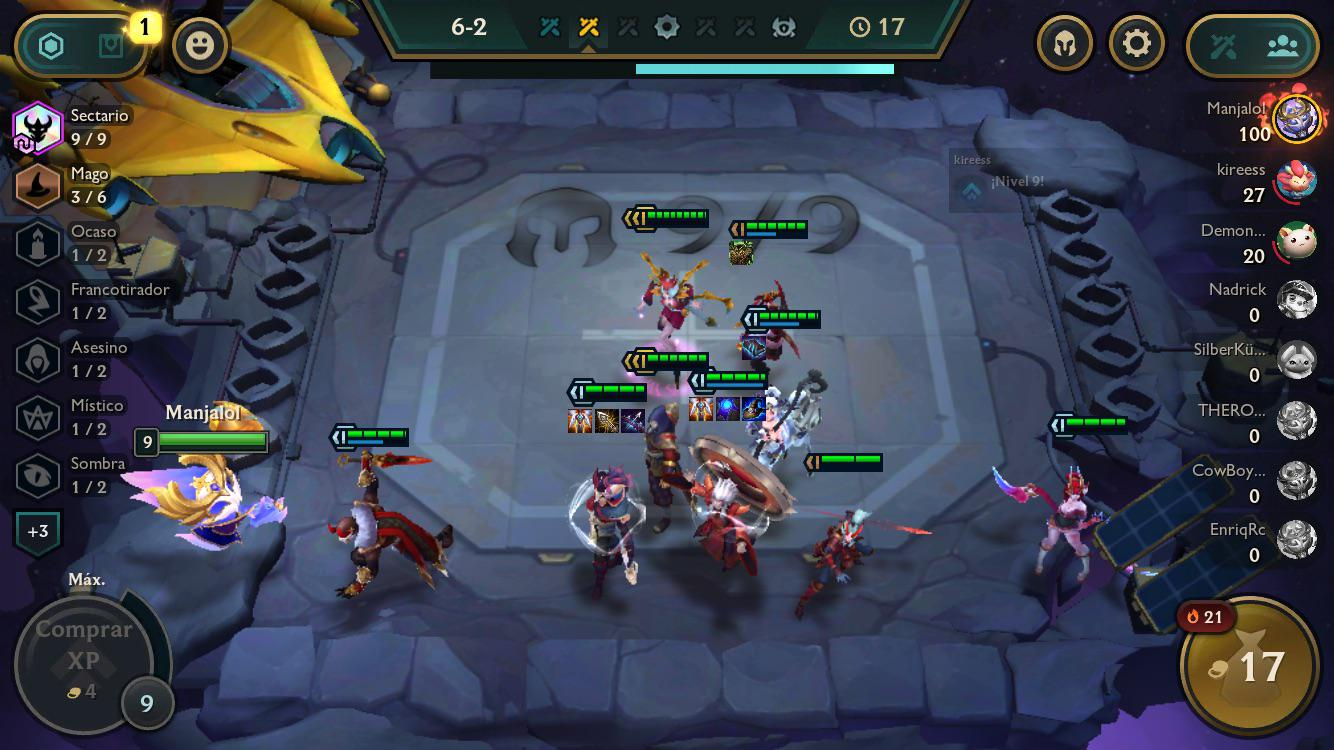1star_kalista: (777, 434, 950, 631)
2star_evelynn: (978, 401, 1143, 610)
2star_jhin: (548, 375, 659, 617)
2star_lillia: (730, 301, 834, 523)
2star_pyke: (303, 408, 468, 648)
2star_zilean: (671, 360, 800, 621)
3star_elise: (613, 199, 725, 406)
3star_elise_chosen: (613, 196, 727, 410)
3star_twistedfate: (615, 341, 718, 549)
item_bluebuff: (715, 392, 744, 425)
item_ga: (684, 393, 717, 425), (565, 404, 596, 437)
item_ie: (593, 406, 624, 436)
item_lastwhisper: (619, 404, 649, 436)
item_mage: (740, 394, 770, 424)
item_morello: (738, 331, 771, 362)
item_warmogs: (724, 235, 757, 270)
trait_assassin1: (1, 330, 143, 392)
trait_cultist9: (1, 96, 144, 158)
trait_cultist_chosen: (7, 96, 67, 161)
trait_dusk1: (1, 209, 143, 271)
trait_mage3: (1, 154, 143, 216)
trait_mystic1: (1, 387, 143, 449)
trait_shade1: (1, 443, 143, 505)
trait_sharpshooter1: (1, 270, 177, 331)
